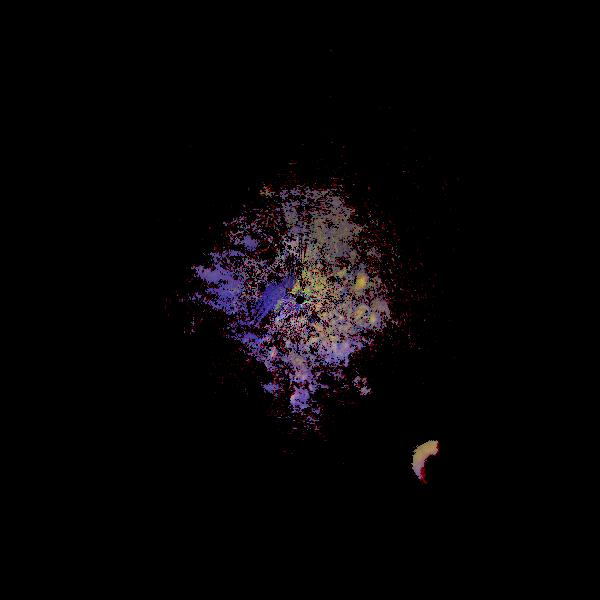roost: (409, 423, 493, 507), (264, 350, 324, 410)
